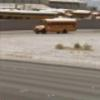cars: (33, 16, 77, 34)
